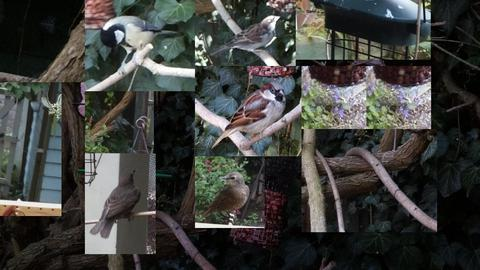great tit: (100, 15, 180, 76)
sparrow: (210, 81, 286, 150), (210, 15, 281, 57)
starling: (89, 168, 141, 239), (200, 171, 250, 225)
